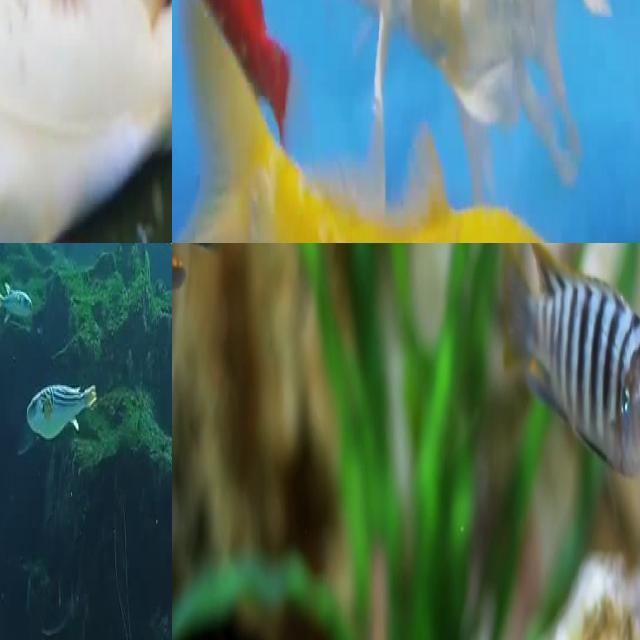fish: (172, 0, 609, 243), (0, 0, 172, 243), (497, 243, 640, 484)
